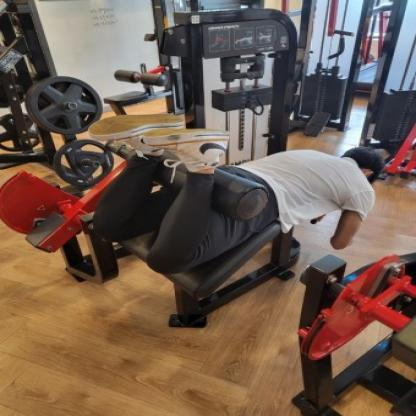reg curl machine: (3, 9, 394, 331)
